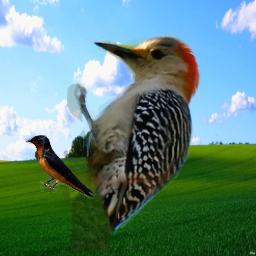Swallow: (25, 135, 94, 199)
Woodpecker: (63, 25, 229, 251)
